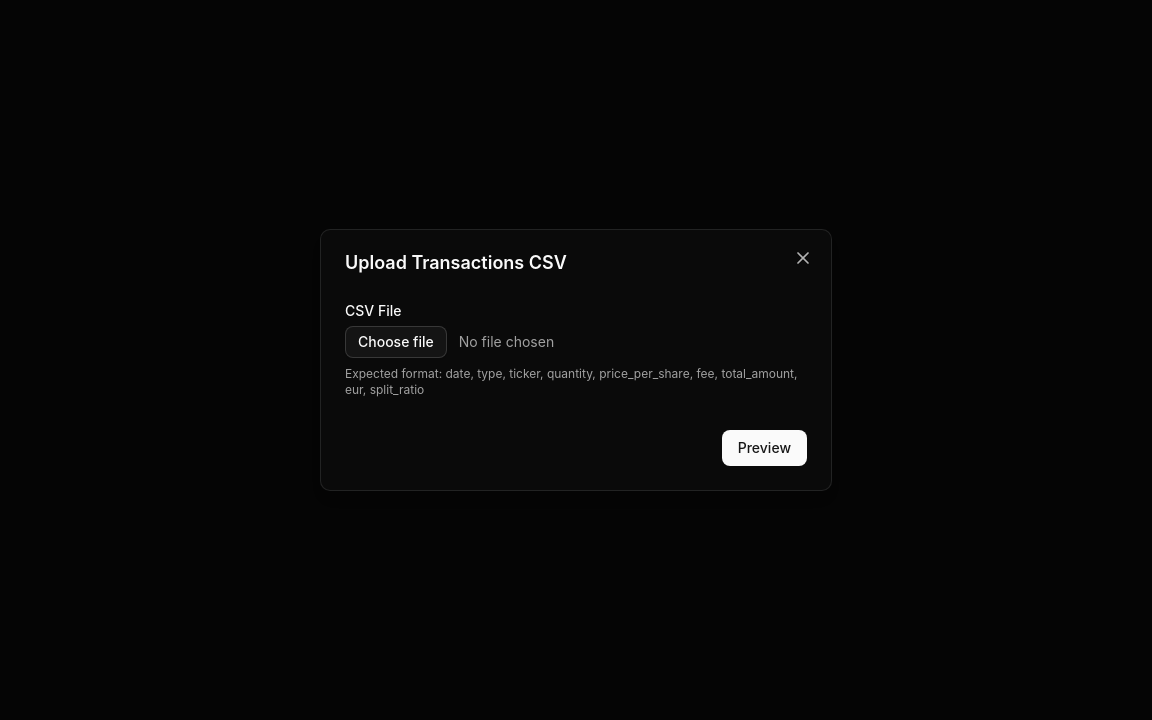
Test case: ImportCSVModal › shows validation error when no file is selected
Click the button "Preview" at (764, 448), box x1=722 y1=430 x2=807 y2=466
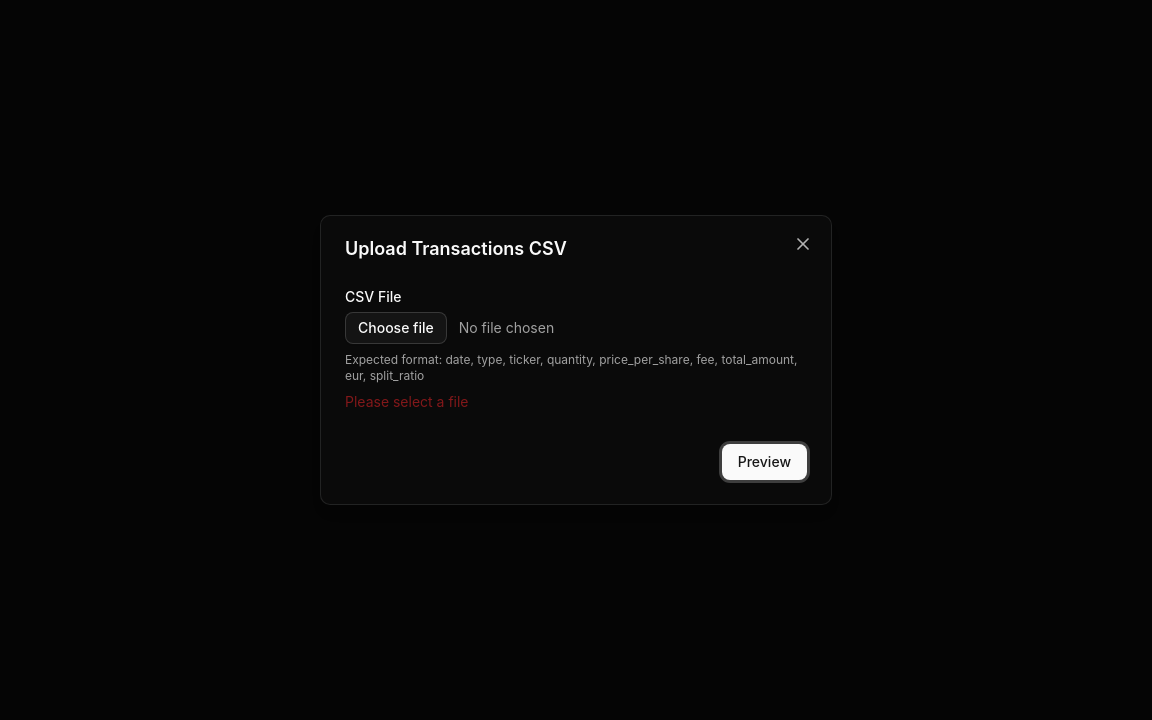
Expected: the text "Please select a file" is shown, x1=345 y1=393 x2=468 y2=410
